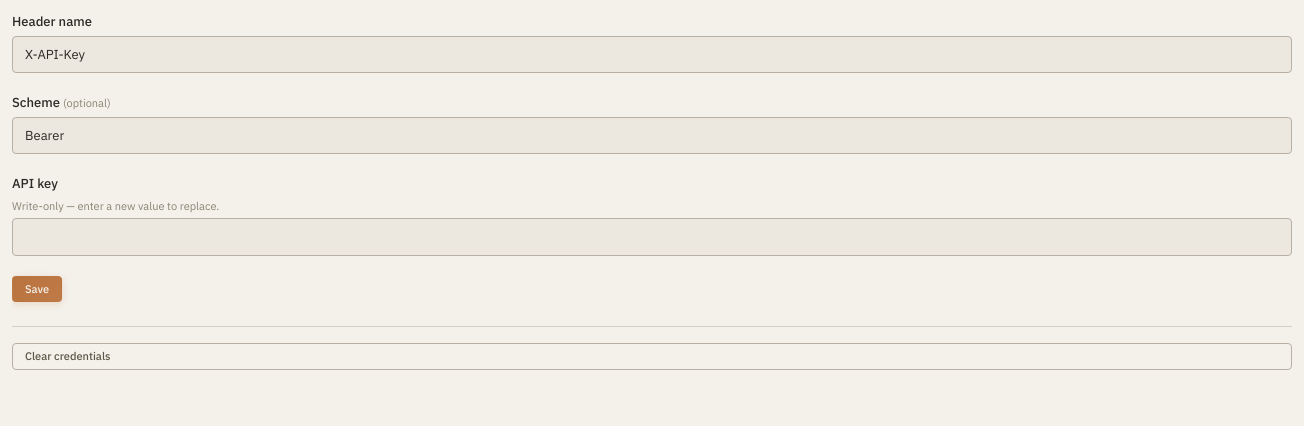
Test: strategy: static_api_key › shows a validation error when api key is empty
Click the button "Save" at [37, 289], box left=12, top=276, right=62, bottom=302
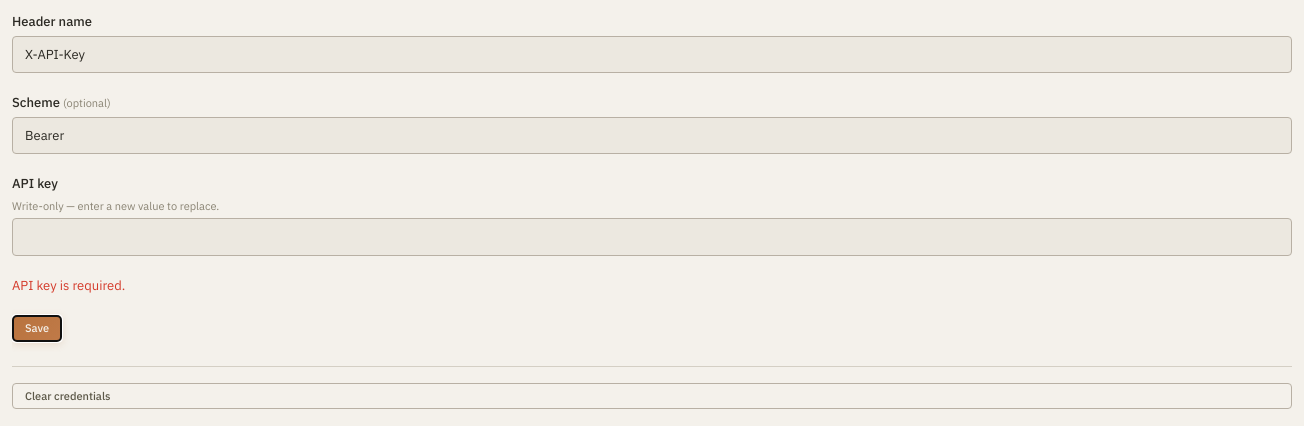
Expected: the message shows "API key is required", left=12, top=276, right=125, bottom=294
